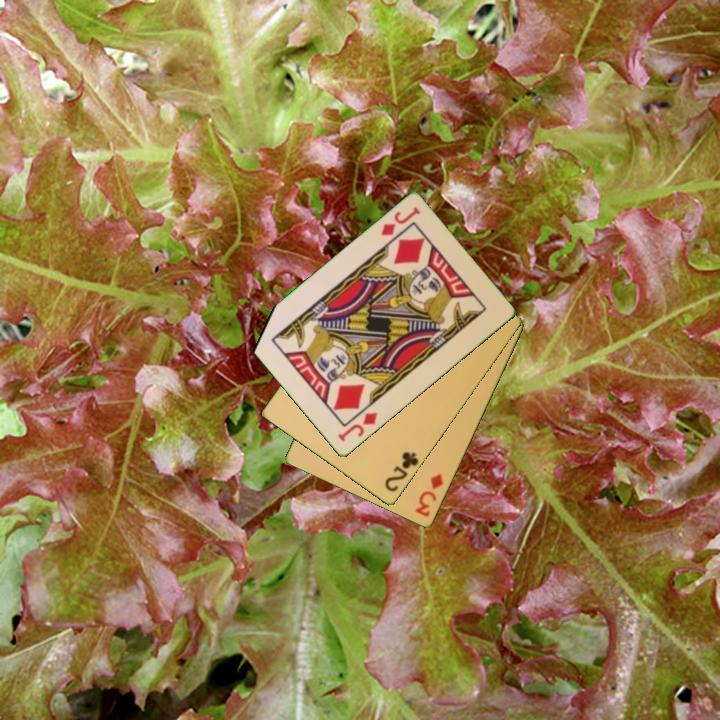2c: (381, 448, 422, 495)
3d: (412, 470, 446, 520)
Jd: (334, 409, 380, 445), (377, 204, 423, 239)
